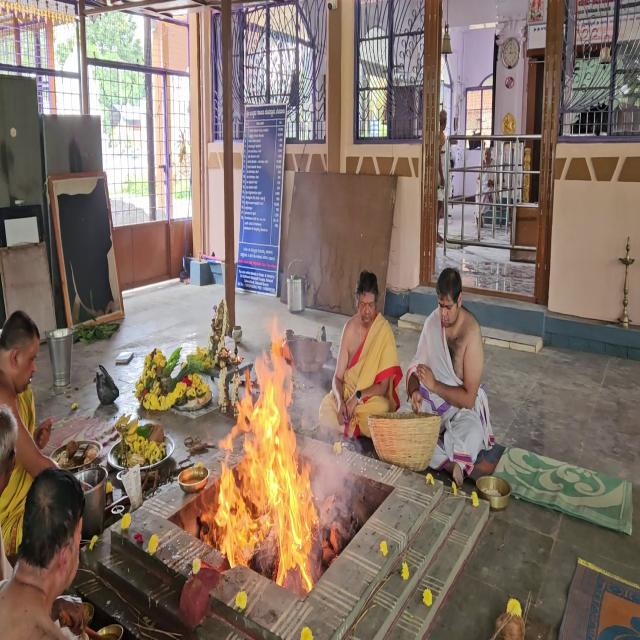fire: (206, 299, 317, 593)
